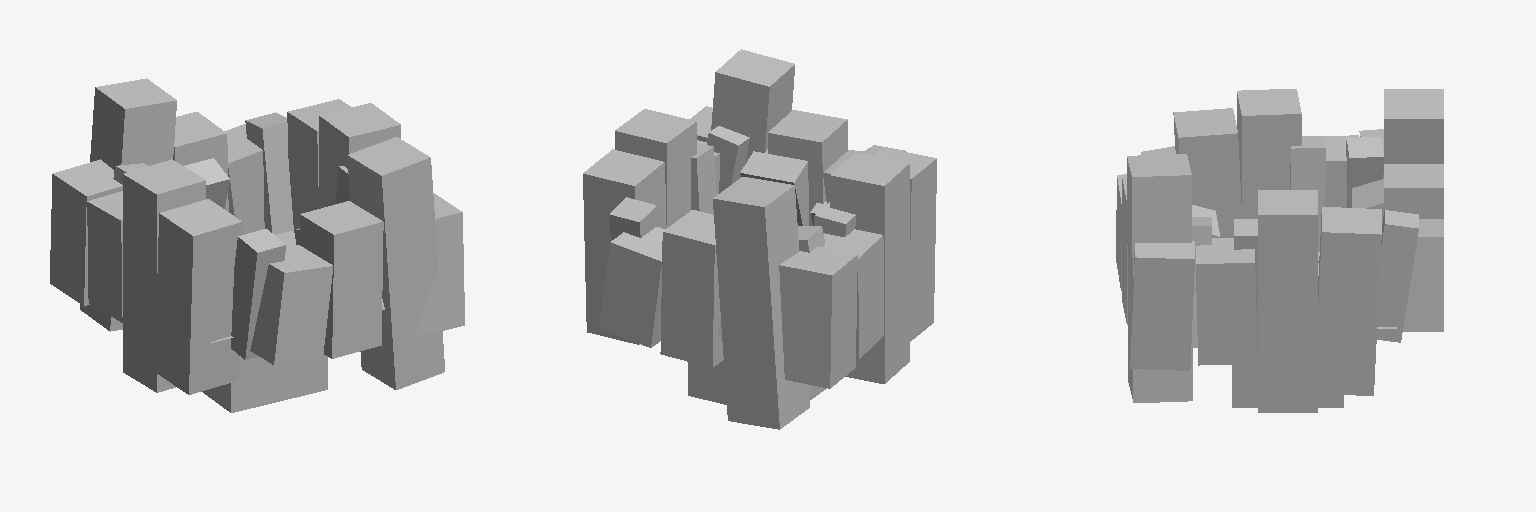
File: MAP2.obj
3 views of the same model, side by side, from view 1: azimuth 30°, elevation 25°; view 2: azimuth 150°, elevation 25°; view 3: azimuth 270°, elevation 25° (orthographic).
Visible parts, largest first — view 1: Cube.008, Cube; view 2: Cube.008, Cube; view 3: Cube.008, Cube.
Boxes of the visible parts, x1=… form: Cube.008: x1=50, y1=78, x2=464, y2=394; Cube: x1=202, y1=354, x2=327, y2=412; Cube.008: x1=583, y1=49, x2=936, y2=429; Cube: x1=688, y1=360, x2=826, y2=404; Cube.008: x1=1116, y1=89, x2=1443, y2=412; Cube: x1=1232, y1=259, x2=1343, y2=407.
Size of the model in its own units: 27.73 by 25.27 by 29.36.